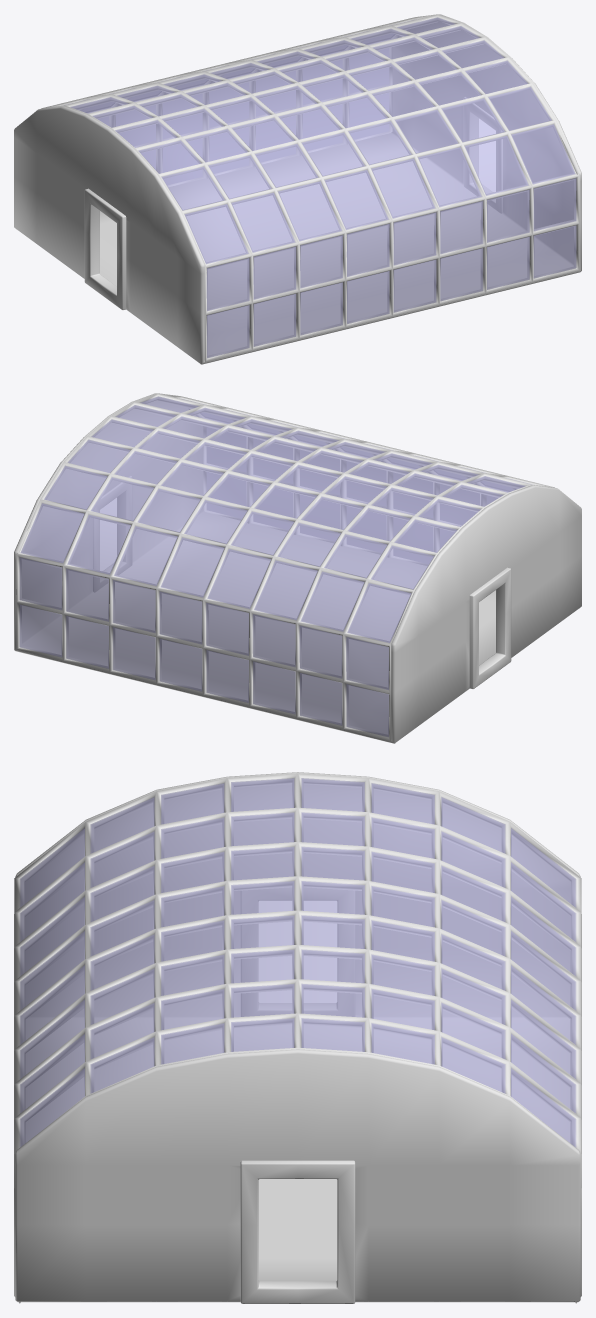
The model's file is BarRoom.fbx.
3 views of the same model, one above another, from view 1: azimuth 30°, elevation 25°; view 2: azimuth 150°, elevation 25°; view 3: azimuth 270°, elevation 25° (orthographic). The views are drawn at different scales.
Parts seen in each view (by area): view 1: RoofGlass, BasicWalls, RoofFrame, Doorframe; view 2: RoofGlass, BasicWalls, RoofFrame, Doorframe; view 3: BasicWalls, RoofGlass, RoofFrame, Doorframe.
Part boxes in pixels (x1=…): RoofGlass: x1=64, y1=17, x2=576, y2=358; BasicWalls: x1=14, y1=14, x2=581, y2=364; RoofFrame: x1=41, y1=14, x2=579, y2=362; Doorframe: x1=84, y1=97, x2=502, y2=309; RoofGlass: x1=19, y1=396, x2=531, y2=737; BasicWalls: x1=14, y1=393, x2=581, y2=743; RoofFrame: x1=16, y1=393, x2=554, y2=741; Doorframe: x1=93, y1=476, x2=511, y2=688; BasicWalls: x1=15, y1=772, x2=580, y2=1302; RoofGlass: x1=19, y1=778, x2=576, y2=1147; RoofFrame: x1=14, y1=773, x2=581, y2=1303; Doorframe: x1=240, y1=887, x2=355, y2=1303.
Bounding box in the file's own units: 11.73 × 4.85 × 9.85.
